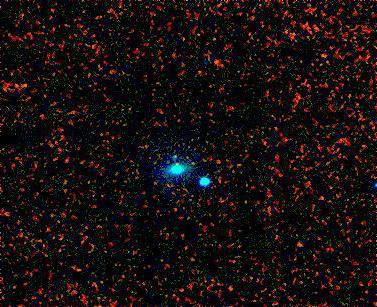star: (201, 48, 231, 78)
